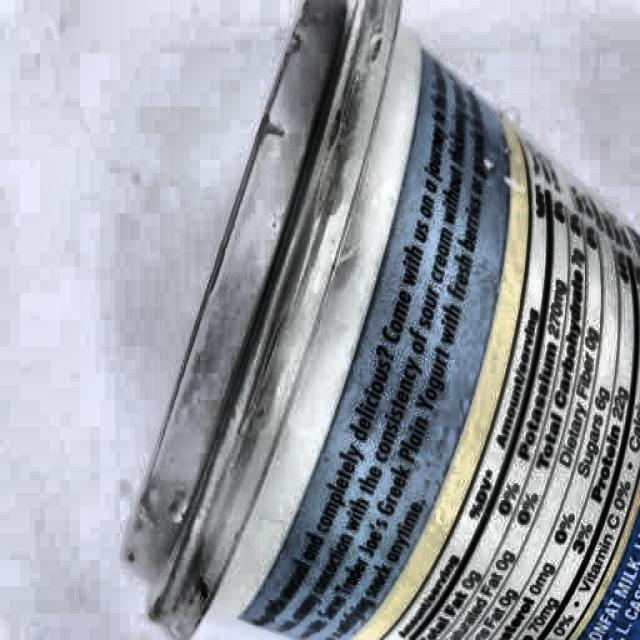plastic: (131, 10, 640, 639)
